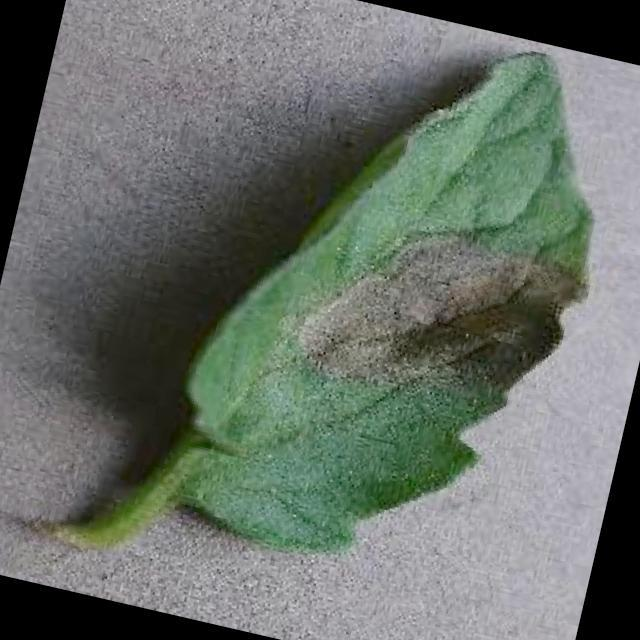Tomato late blight leaf: (150, 0, 640, 612)
